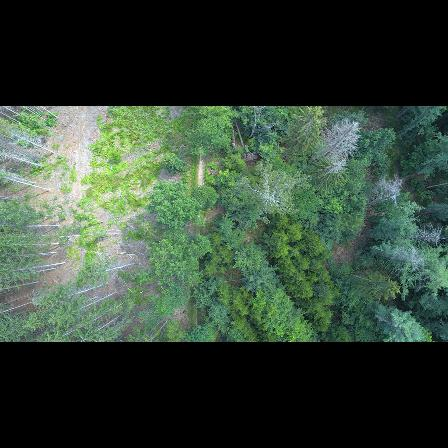Dead: (312, 119, 363, 164), (371, 243, 430, 270), (368, 175, 402, 212), (406, 224, 448, 247)
Sick: (240, 177, 299, 217), (317, 158, 348, 187)
